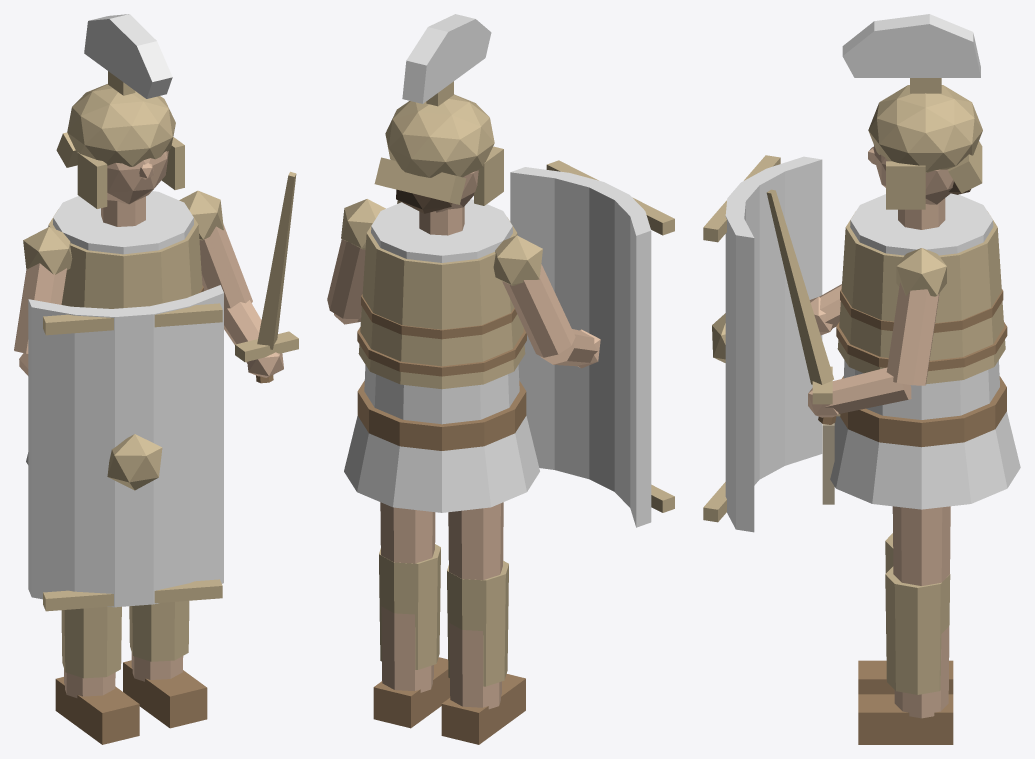
File: civ_unit_swordsman.glb
3 views of the same model, side by side, from view 1: azimuth 30°, elevation 25°; view 2: azimuth 150°, elevation 25°; view 3: azimuth 270°, elevation 25° (orthographic).
Visible parts, largest first — view 1: civ_unit_swordsman; view 2: civ_unit_swordsman; view 3: civ_unit_swordsman.
Boxes of the visible parts, bbox=[...] form: civ_unit_swordsman: bbox=[14, 14, 298, 744]; civ_unit_swordsman: bbox=[327, 14, 674, 744]; civ_unit_swordsman: bbox=[703, 14, 1020, 744].
Bounding box in the file's own units: 0.8172 × 1.95 × 0.8016.
